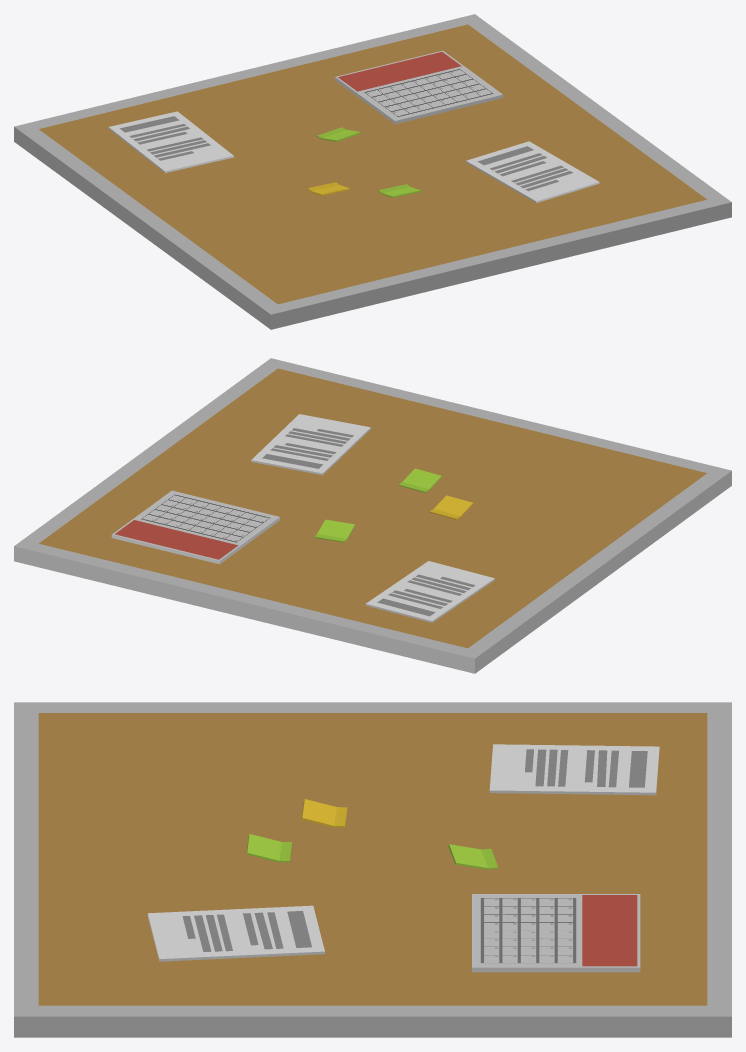
Rendered from PinBoard.glb.
3 views of the same model, one above another, from view 1: azimuth 30°, elevation 25°; view 2: azimuth 150°, elevation 25°; view 3: azimuth 270°, elevation 25° (orthographic). The views are drawn at different scales.
Parts seen in each view (by area): view 1: SO_Pinboard_01; view 2: SO_Pinboard_01; view 3: SO_Pinboard_01.
Part boxes in pixels (x1,y1,x2,y2): SO_Pinboard_01: [14, 14, 731, 329]; SO_Pinboard_01: [14, 358, 731, 673]; SO_Pinboard_01: [14, 702, 731, 1037].
Size of the model in its own units: 3.24 by 0.1441 by 3.13.
1 material, 1 textured.
